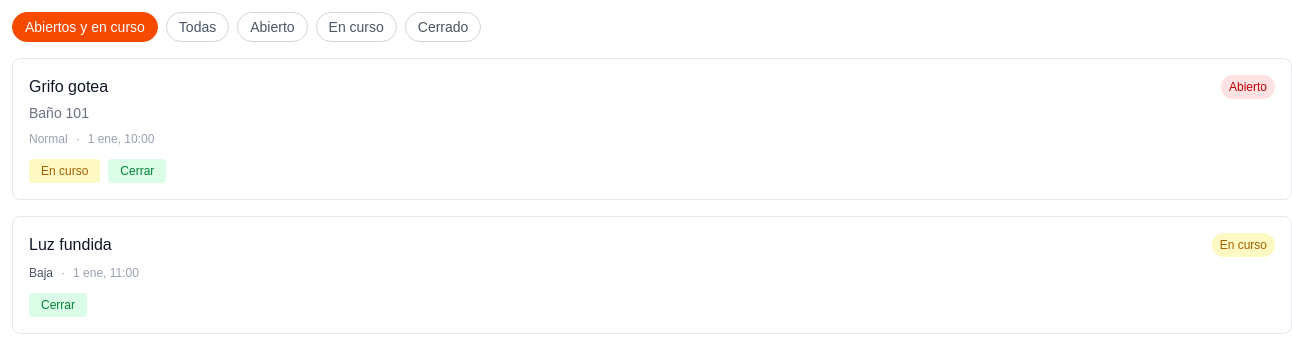
Scenario: TicketList › el filtro «Abierto» sigue mostrando solo los abiertos
Check: the heading "Luz fundida" is shown, box x1=29 y1=233 x2=112 y2=257
Click the button "Abierto" at (272, 27), box x1=237 y1=12 x2=308 y2=42
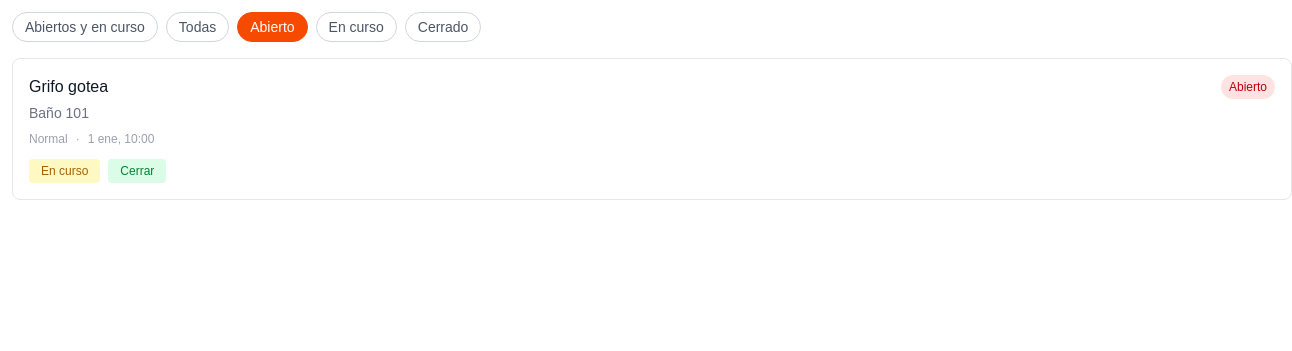
Check: the heading "Grifo gotea" is shown, box x1=29 y1=75 x2=108 y2=99
Check: the heading "Luz fundida" is gone
